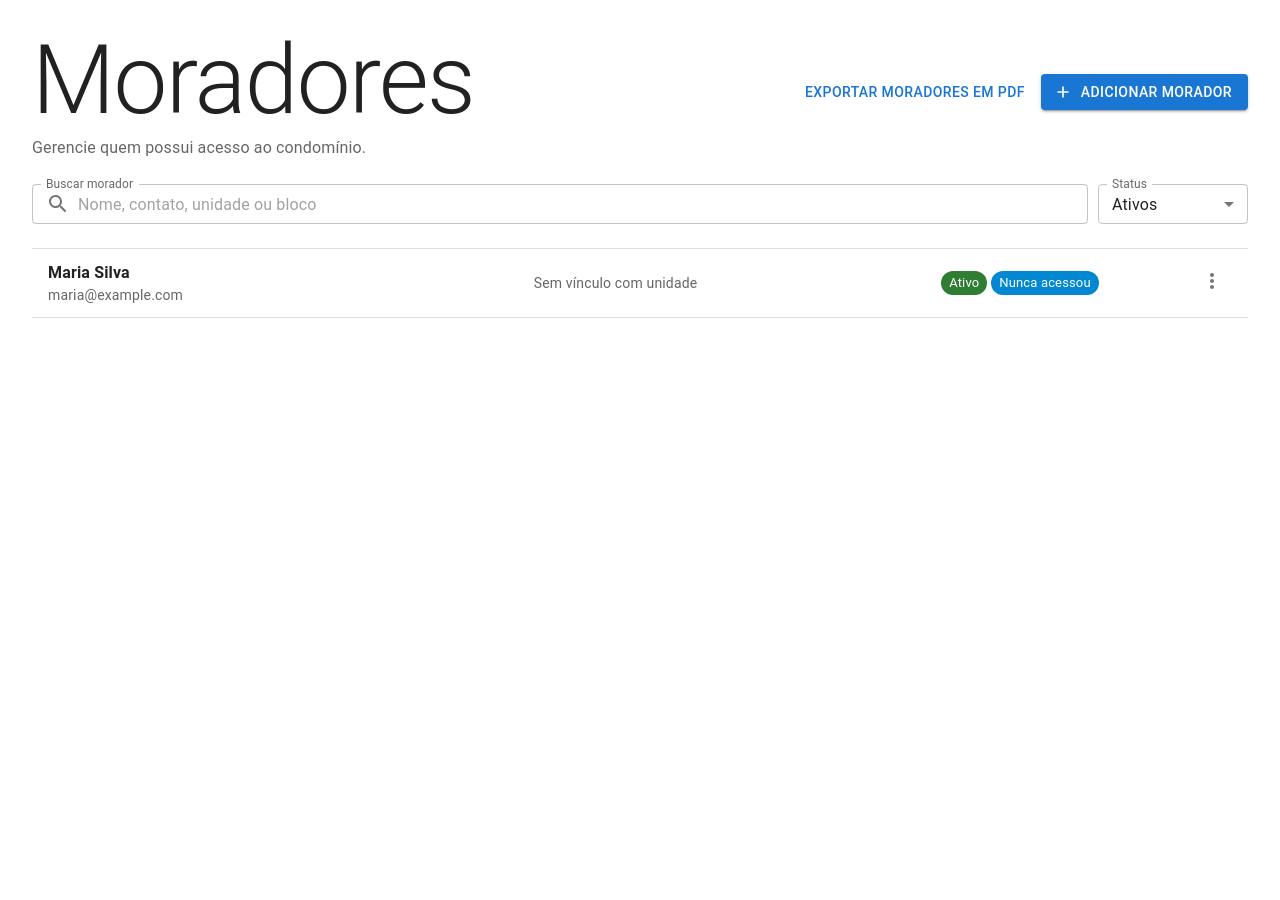
Test case: ManagementPeoplePage password reset › confirms reset and shows the new temporary credential once
Click the button named "Ações de Maria Silva": [1212, 281] box [1192,261,1232,301]
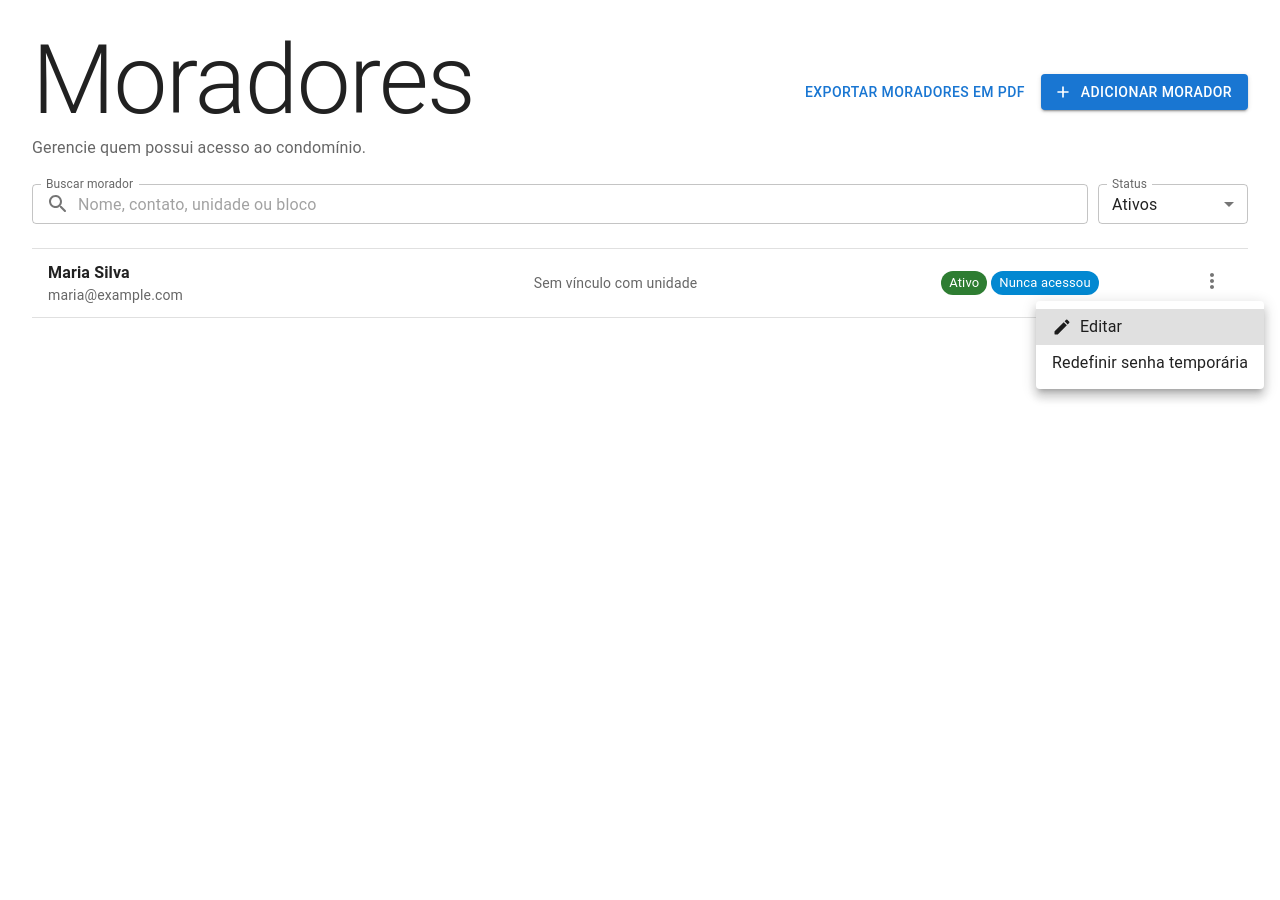
Click the menu item "Redefinir senha temporária": [1150, 362] box [1052,353,1248,372]
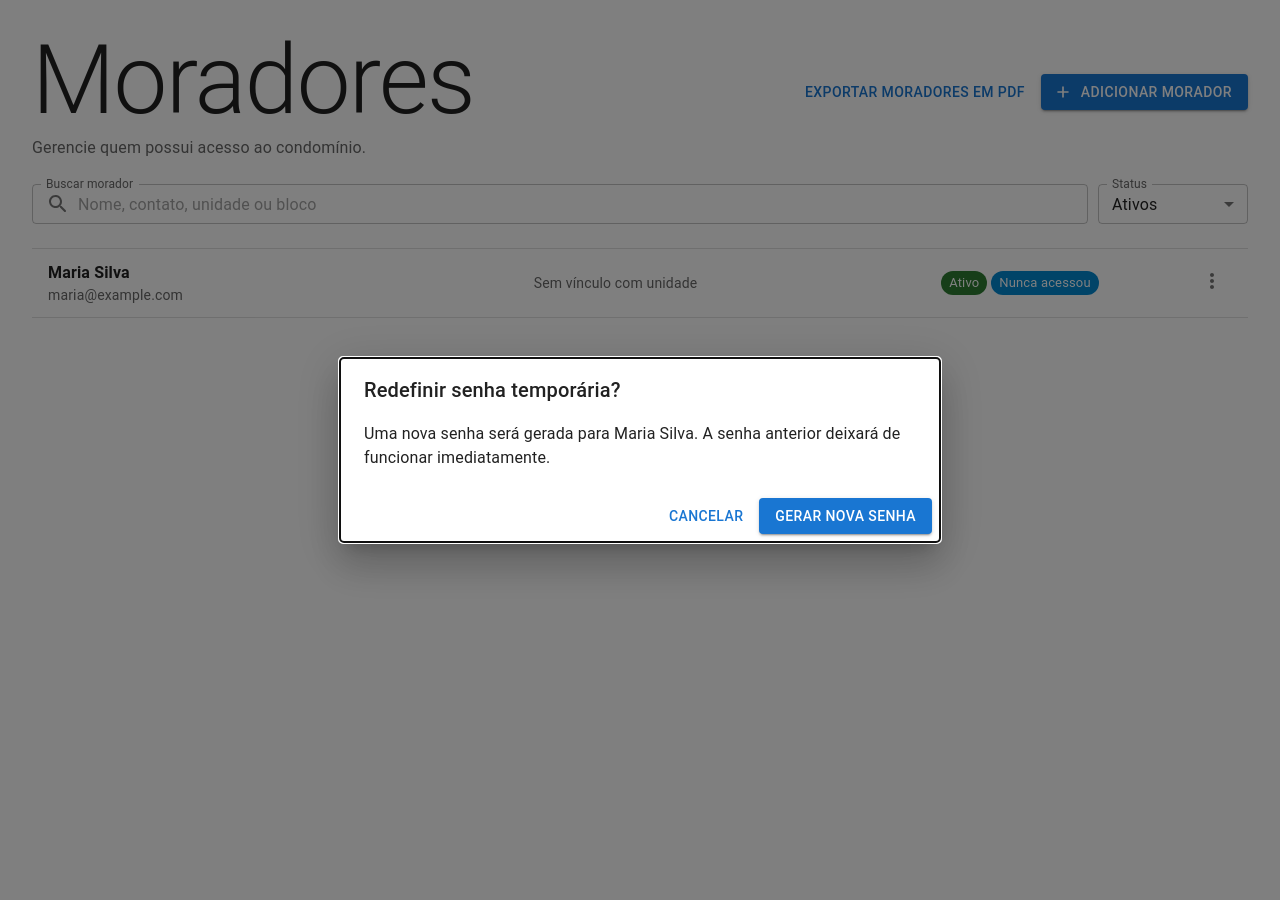
Now the heading "Redefinir senha temporária?" is shown, box [364,378,621,402]
Click the button "Gerar nova senha": [846, 516] box [759,498,932,534]
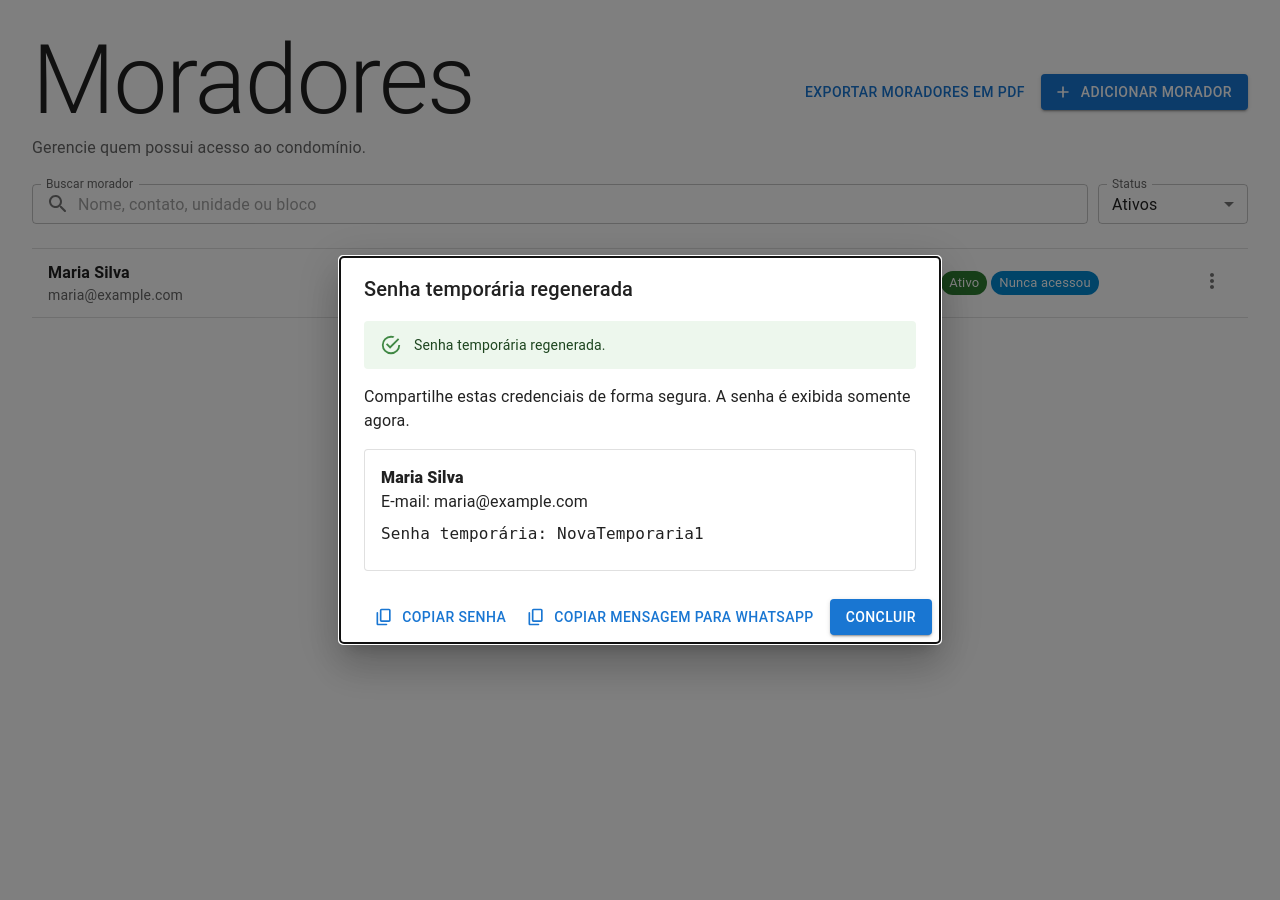
Now the text "Senha temporária regenerada." is shown, box [414,337,606,353]
Now the text "Senha temporária: NovaTemporaria1" is shown, box [381,524,704,543]
